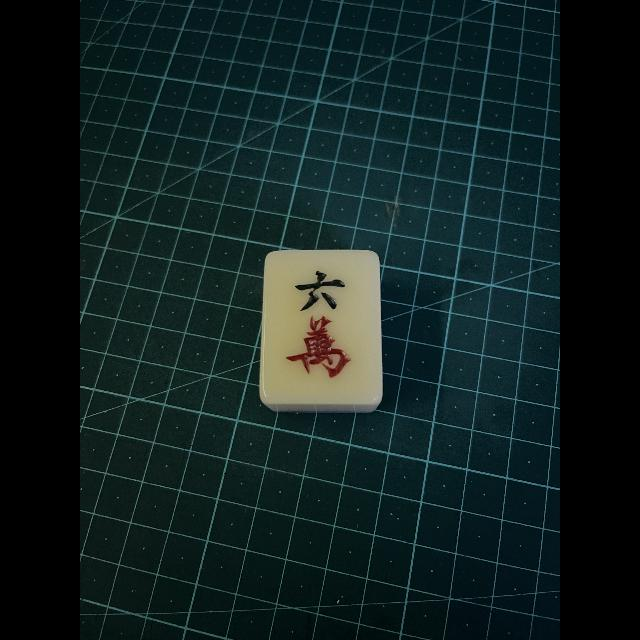c6: (264, 254, 380, 400)
